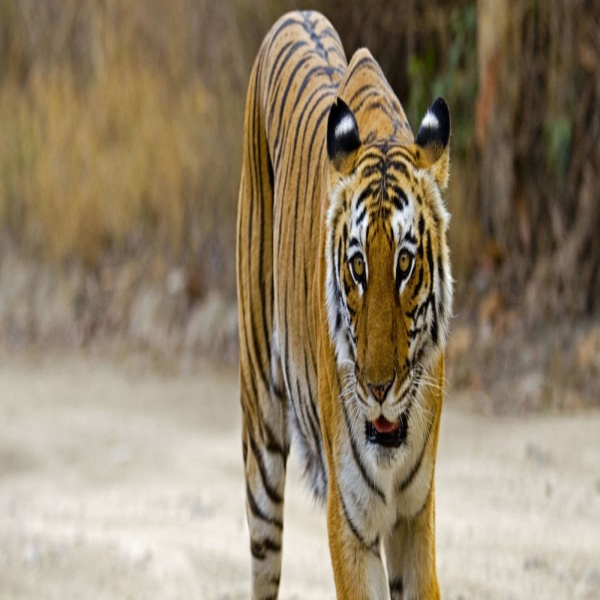Tiger: (231, 4, 457, 599)
